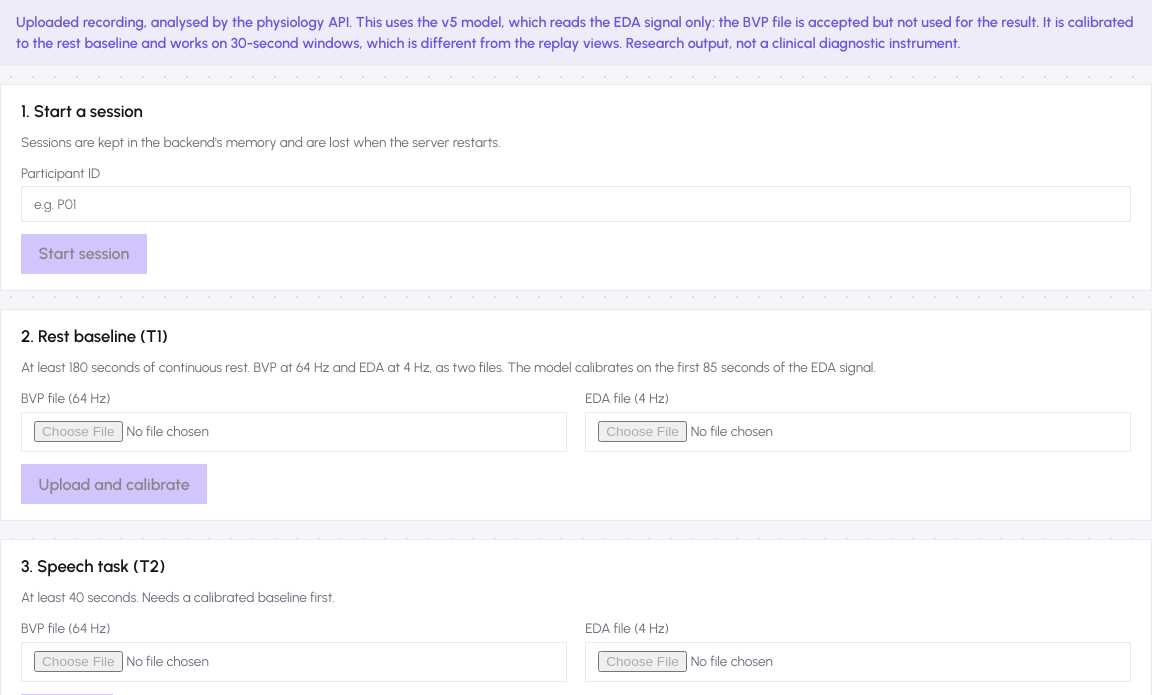
Test case: recording analysis workflow (mocked API) › runs session, baseline calibration, a task and the summary
Later steps or results of the test are not shown.
Type "p01" into the field labelled "Participant ID" at (576, 204), box [21,186,1131,222]
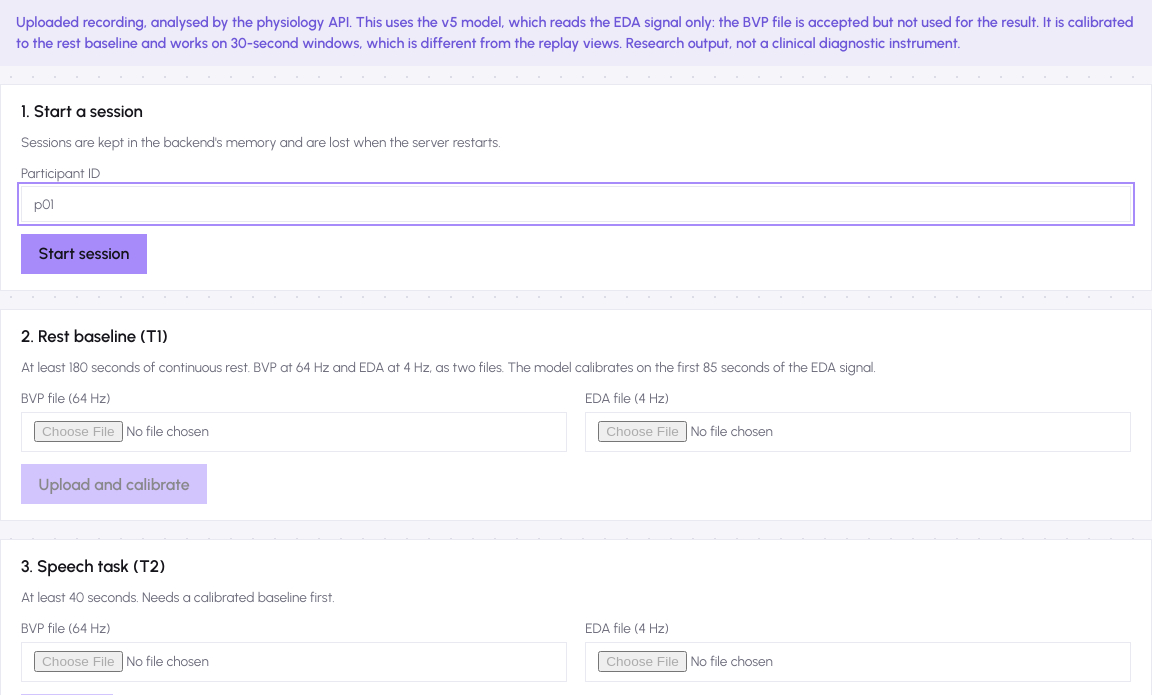
Click the button "Start session" at (84, 254), box [21,234,147,274]
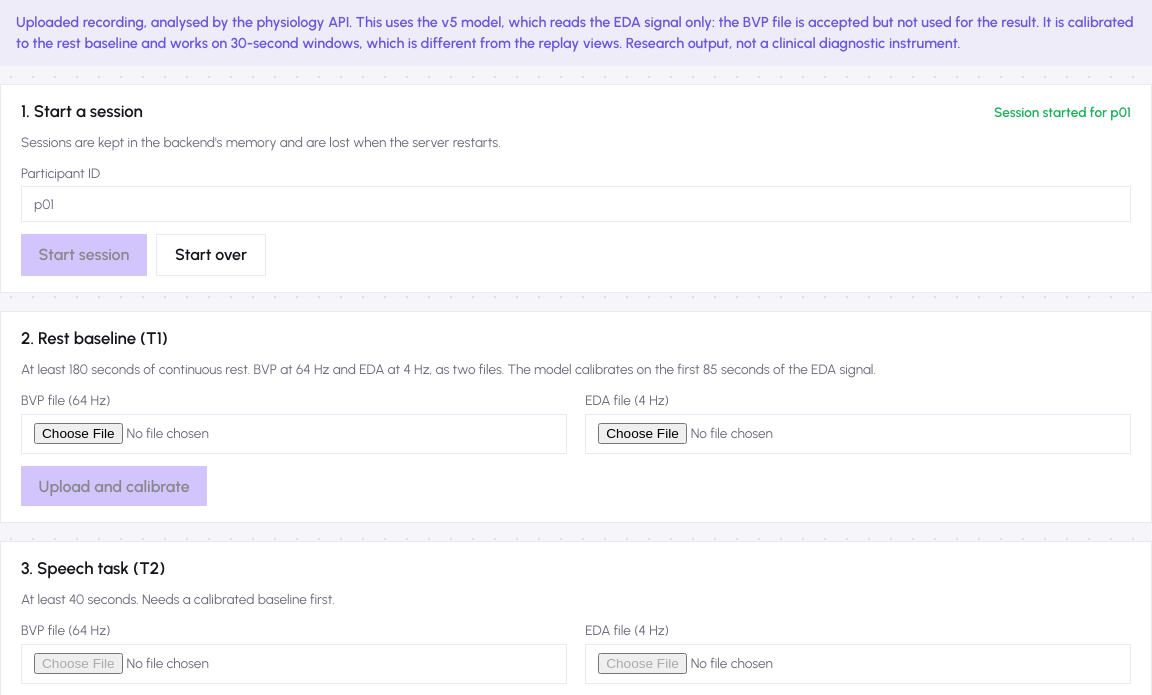
Expected: the text "Session started for p01" is shown, [994,104,1131,120]
